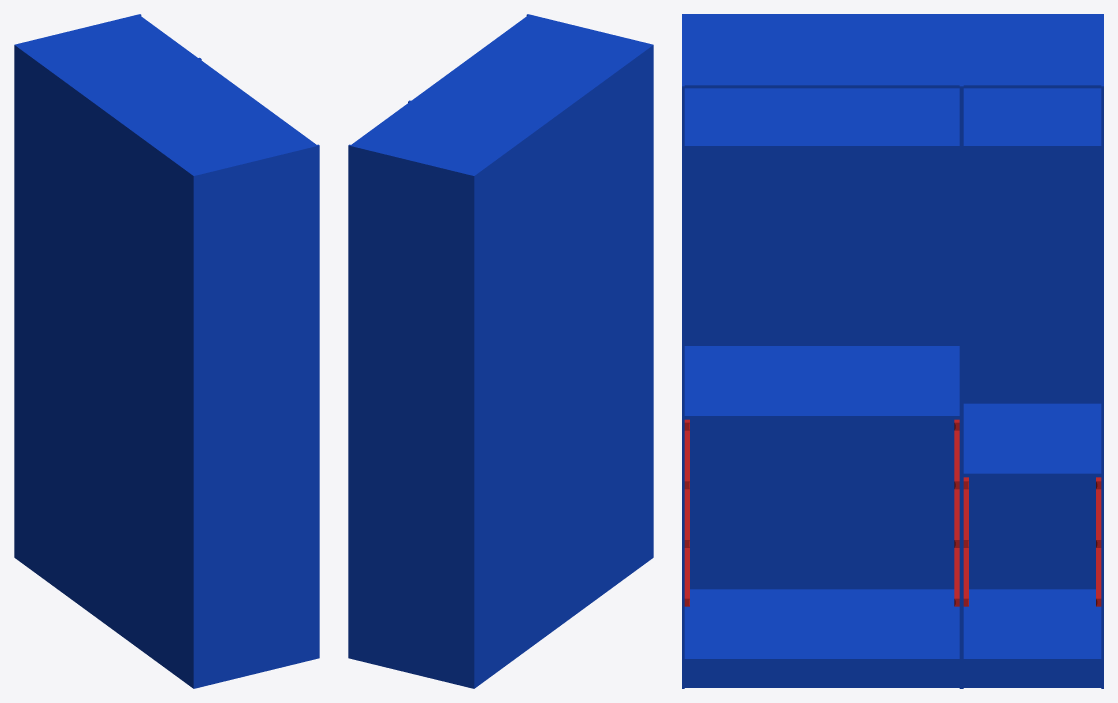
The model's file is MOD_FUR_Closet_02.fbx.
The picture shows the model from 3 angles, left to right: view 1: azimuth 30°, elevation 25°; view 2: azimuth 150°, elevation 25°; view 3: azimuth 270°, elevation 25°; orthographic projection. The views are drawn at different scales.
Parts seen in each view (by area): view 1: MOD_FUR_Closet_02; view 2: MOD_FUR_Closet_02; view 3: MOD_FUR_Closet_02.
Part boxes in pixels (<box>): MOD_FUR_Closet_02: <box>14,14,319,688</box>; MOD_FUR_Closet_02: <box>348,14,653,688</box>; MOD_FUR_Closet_02: <box>682,14,1103,688</box>.
Bounding box in the file's own units: 0.6078 × 2.36 × 1.5.
